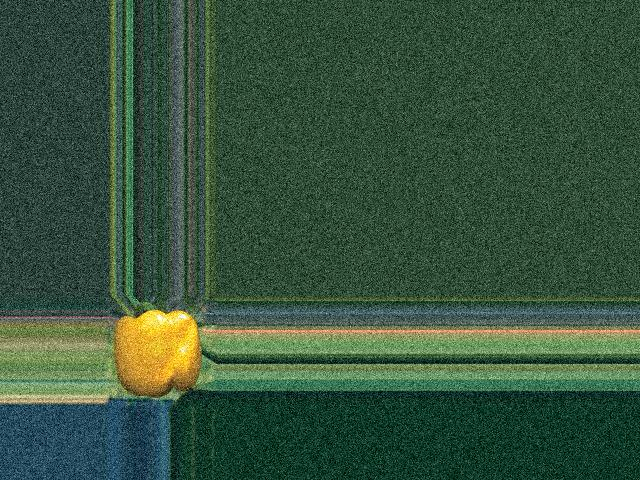bell_pepper: (108, 301, 208, 398)
